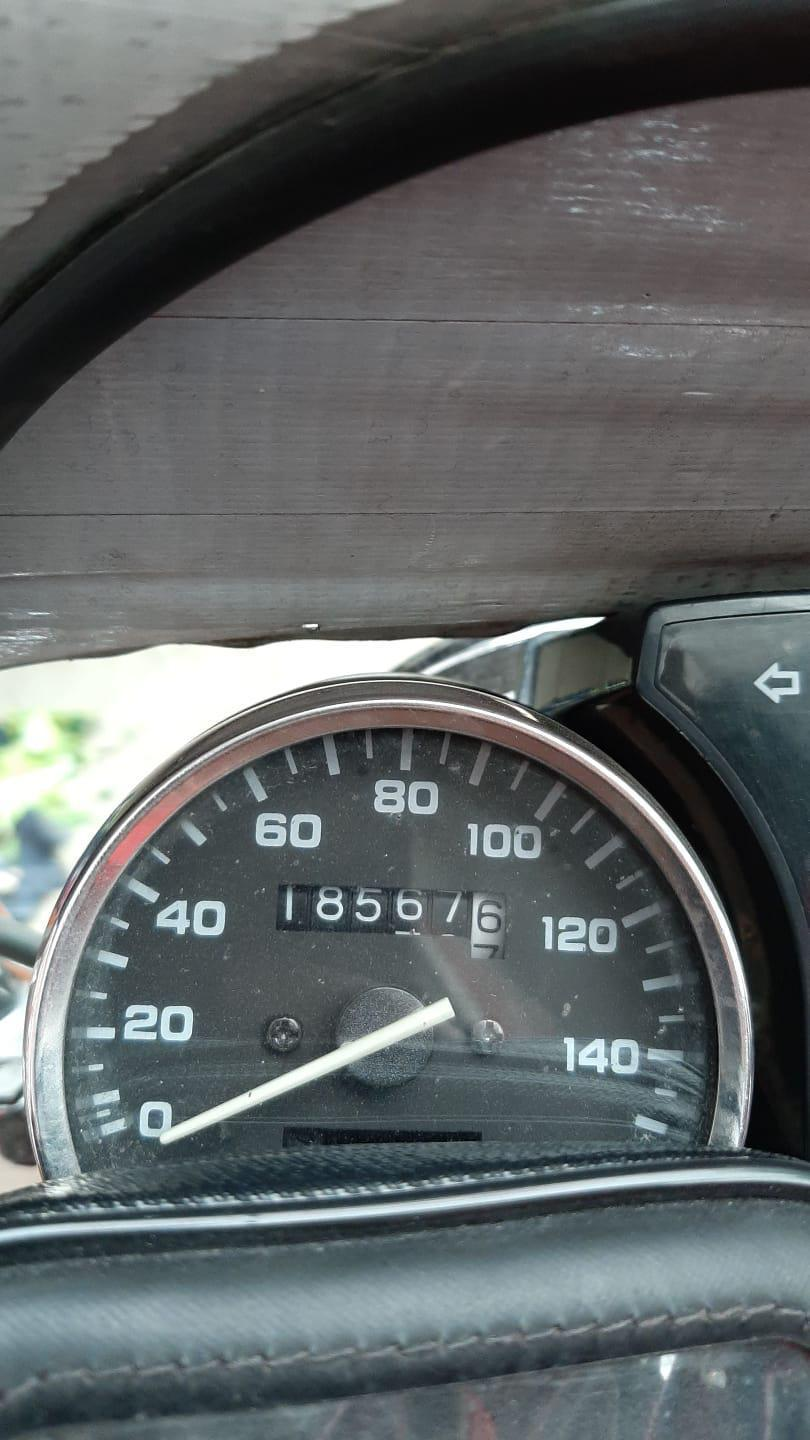1: (281, 882, 301, 931)
5: (355, 883, 384, 927)
6: (476, 893, 507, 936), (394, 886, 426, 925)
7: (436, 885, 466, 926)
8: (313, 881, 346, 923)
odometer: (271, 878, 515, 966)
